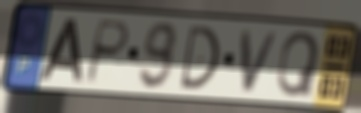9: (137, 20, 179, 92)
A: (38, 16, 85, 85)
D: (177, 24, 222, 92)
P: (82, 17, 133, 86)
Q: (275, 29, 322, 99)
V: (239, 29, 283, 95)
